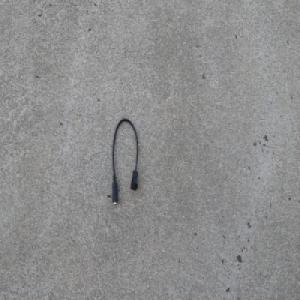Wire: (110, 113, 139, 206)
